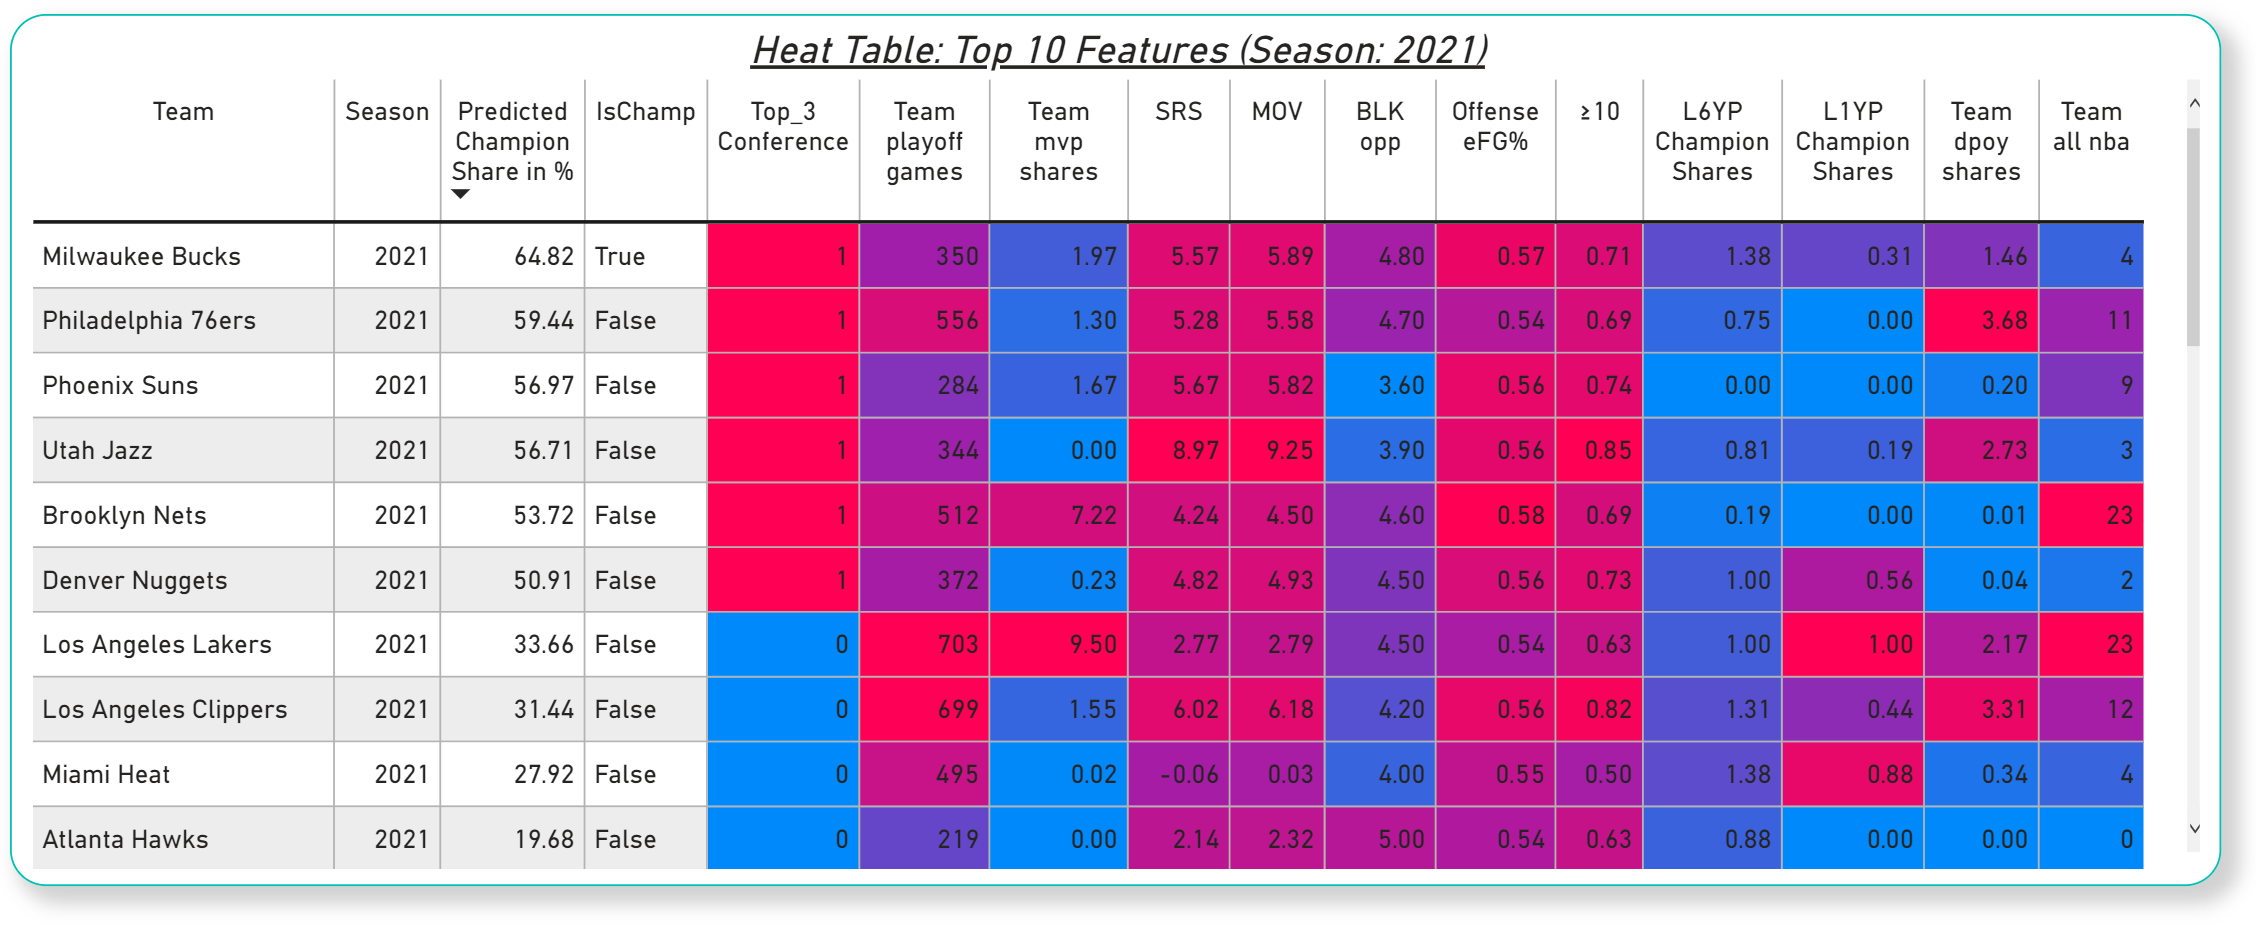

The page's visual inventory and layout, read from the dashboard file:
{"tool":"powerbi","page":{"name":"Page 2","canvas":[1280,1280],"ordinal":1},"visuals":[{"type":"tableEx","fields":{"Values":["raw_data.Team","raw_data.Season","raw_data.Predicted Champion Share in %","raw_data.IsChampion","raw_data.Top_3_Conference","raw_data.count_playoff_games","raw_data.sum_mvp_shares","raw_data.SRS","raw_data.MOV","raw_data.BLK_opp","raw_data.Offense Four Factors|eFG%","raw_data.≥10"]},"box":[21.4,162.9,1228.6,484.3],"z":0},{"type":"slicer","fields":{"Values":["raw_data.Season"]},"box":[560,12.9,150,125.7],"z":1000}]}

Visuals, with their boxes on the page's 1280x1280 design canvas (x1, y1, x2, y2). These are canvas units, not pixel positions in the 2257x929 screenshot, which may show the page scaled, cropped or inside an application window:
tableEx - raw_data.Team x raw_data.Season: locate(21, 163, 1250, 647)
slicer - raw_data.Season: locate(560, 13, 710, 139)
